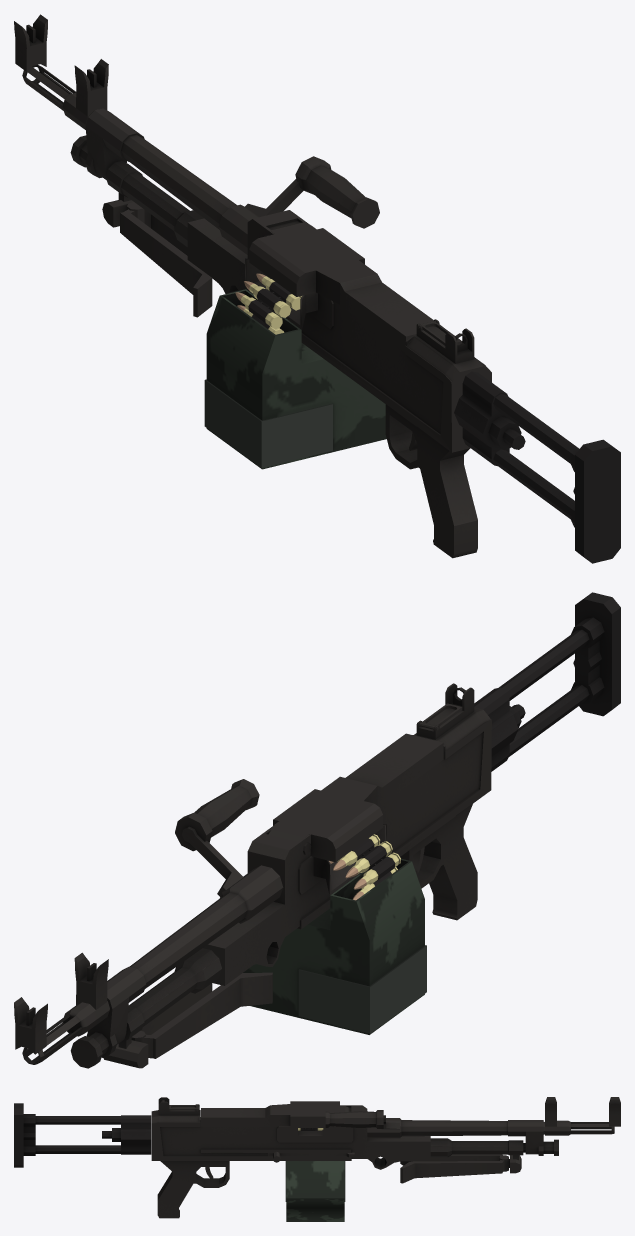
The model's file is MAG_LMG.fbx.
3 views of the same model, one above another, from view 1: azimuth 30°, elevation 25°; view 2: azimuth 150°, elevation 25°; view 3: azimuth 270°, elevation 25° (orthographic). The views are drawn at different scales.
Visible parts, largest first — view 1: Body, Magazine_Short, Barrel_Short, Cover, Stock_Para_Collapsable, Stock_Para, Handle, Bipod_Left, Sights_Front, Sights_Front_Short; view 2: Body, Magazine_Short, Barrel_Short, Cover, Stock_Para_Collapsable, Bipod_Left, Handle, Stock_Para, Sights_Front_Short, Sights_Front, Bipod, Bipod_Right (+2 smaller); view 3: Body, Barrel_Short, Magazine_Short, Cover, Stock_Para_Collapsable, Bipod_Right, Stock_Para, Handle, Bipod_Left, Bolt, Sights_Front, Sights_Front_Short (+1 smaller).
Boxes of the visible parts, box(x1,y1,x2,y2) form: Body: box(187, 210, 491, 558); Magazine_Short: box(204, 289, 386, 469); Barrel_Short: box(22, 64, 258, 254); Cover: box(249, 222, 433, 352); Stock_Para_Collapsable: box(493, 394, 620, 563); Stock_Para: box(454, 371, 525, 466); Handle: box(245, 156, 379, 228); Bipod_Left: box(120, 209, 212, 317); Sights_Front: box(14, 14, 47, 71); Sights_Front_Short: box(74, 59, 108, 116); Body: box(203, 683, 491, 985); Magazine_Short: box(243, 855, 426, 1034); Barrel_Short: box(22, 865, 283, 1068); Cover: box(268, 733, 443, 862); Stock_Para_Collapsable: box(498, 592, 620, 757); Bipod_Left: box(144, 972, 272, 1058); Handle: box(175, 779, 259, 896); Stock_Para: box(474, 687, 525, 771); Sights_Front_Short: box(74, 952, 108, 1009); Sights_Front: box(14, 997, 47, 1054); Bipod: box(103, 1030, 148, 1068); Bipod_Right: box(141, 983, 212, 1034); Body: box(151, 1097, 430, 1218); Barrel_Short: box(367, 1118, 614, 1160); Magazine_Short: box(285, 1161, 345, 1221); Cover: box(201, 1101, 348, 1127); Stock_Para_Collapsable: box(14, 1103, 120, 1167); Bipod_Right: box(400, 1160, 504, 1183); Stock_Para: box(102, 1115, 151, 1154); Handle: box(325, 1110, 399, 1129); Bipod_Left: box(400, 1154, 502, 1165); Bolt: box(268, 1151, 354, 1162); Sights_Front: box(609, 1097, 620, 1126); Sights_Front_Short: box(545, 1097, 556, 1126).
Bounding box in the file's own units: 12.6 × 17.25 × 79.29.
